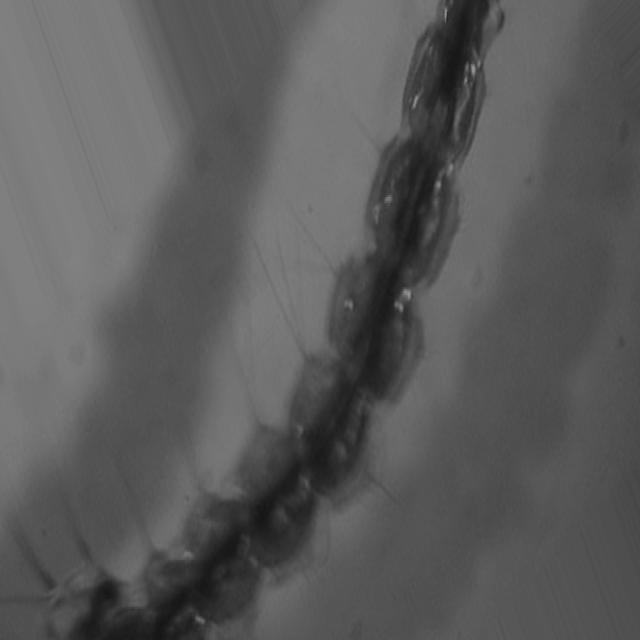larvas: (43, 0, 504, 640)
